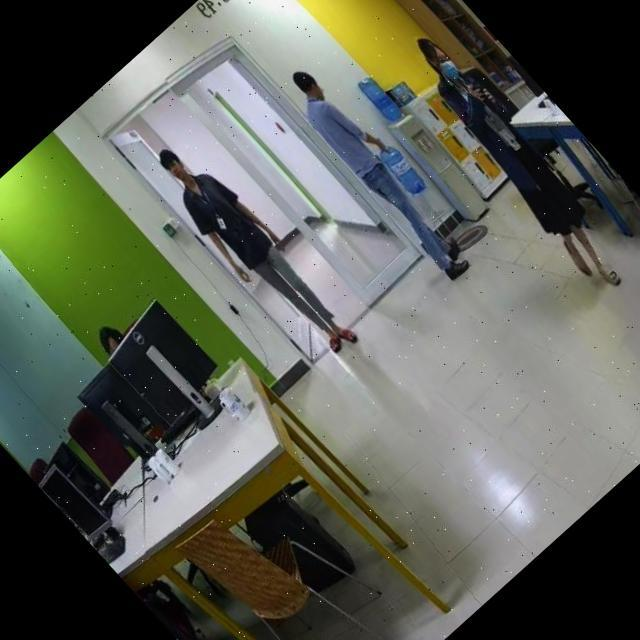person: (395, 28, 640, 298), (140, 127, 364, 369), (275, 62, 482, 286)
